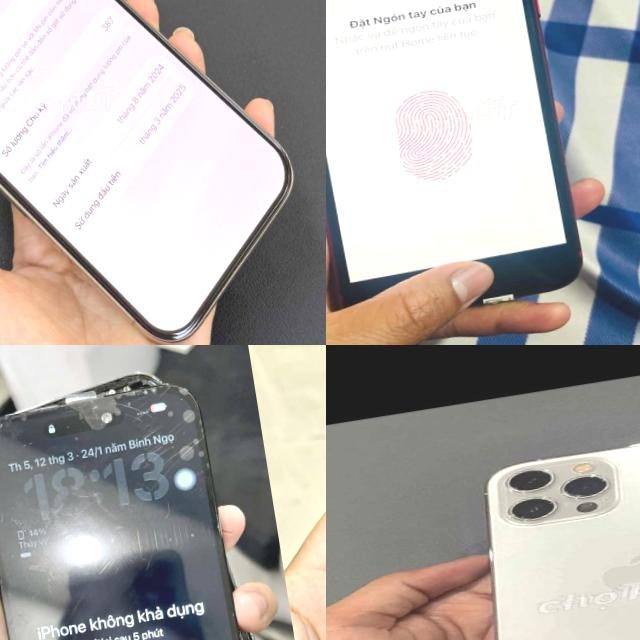gen_11: (0, 356, 315, 640)
gen_12_13: (459, 418, 640, 640)
gen_16: (0, 0, 292, 345)
gen_7_8: (326, 0, 600, 338)
physical_damage: (66, 373, 220, 505)
scratch: (43, 540, 171, 640), (0, 416, 46, 468), (0, 499, 45, 550)
